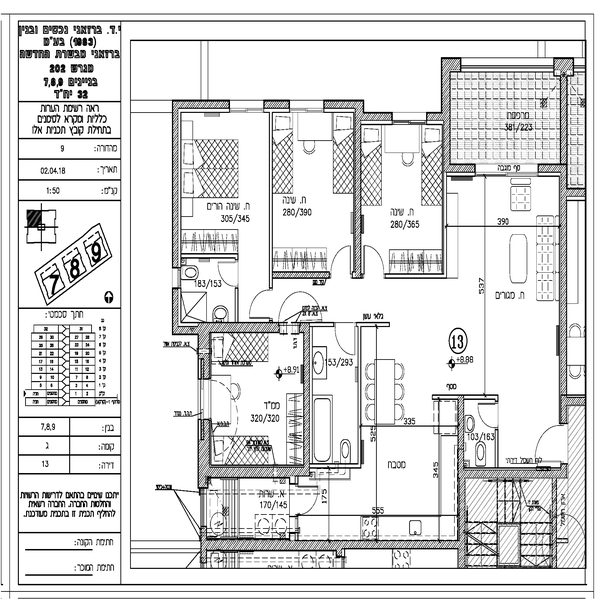door: (535, 416, 574, 468), (295, 483, 338, 518), (325, 318, 357, 358), (360, 244, 389, 280), (247, 284, 273, 322), (216, 257, 243, 289), (333, 243, 356, 280), (477, 398, 502, 432)
room: (167, 84, 281, 334), (190, 457, 472, 558), (260, 85, 368, 285), (346, 97, 449, 290), (200, 314, 314, 471), (456, 455, 560, 577)
wall: (201, 535, 469, 555), (557, 73, 570, 423), (455, 397, 470, 571), (170, 98, 184, 274), (351, 104, 364, 278), (458, 464, 568, 484), (209, 464, 315, 480), (298, 325, 309, 479), (193, 323, 283, 340), (443, 53, 453, 174), (168, 97, 234, 114), (197, 411, 210, 493), (323, 89, 366, 112), (273, 268, 333, 281), (263, 97, 292, 117)
window: (475, 157, 538, 184), (287, 94, 327, 118), (233, 95, 269, 117), (393, 109, 425, 130)
